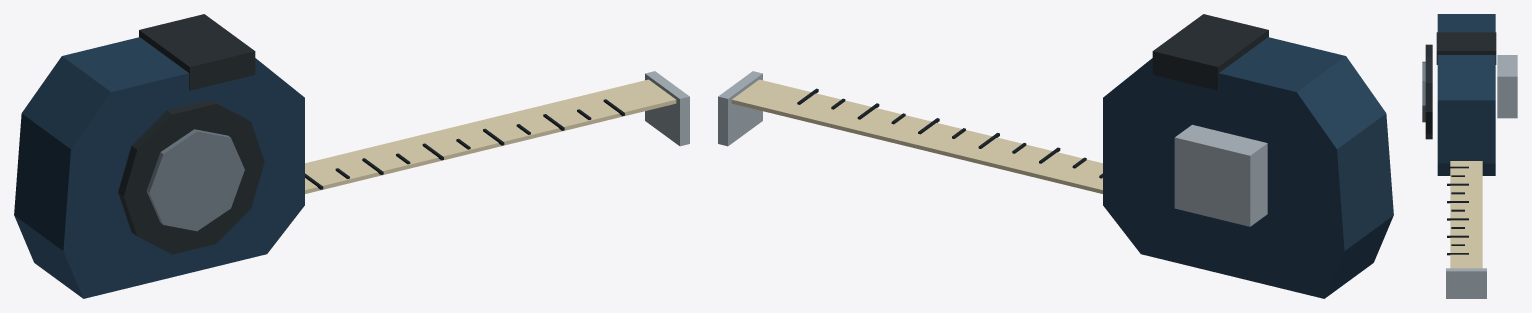
File: b06_retractable_tape_measure.glb
3 renders of one model, left to right at view 1: azimuth 30°, elevation 25°; view 2: azimuth 150°, elevation 25°; view 3: azimuth 270°, elevation 25°, orthographic. The views are drawn at different scales.
Visible parts, largest first — view 1: b06_retractable_tape_measure; view 2: b06_retractable_tape_measure; view 3: b06_retractable_tape_measure.
Part boxes in pixels (x1,y1,x2,y2): b06_retractable_tape_measure: [14, 14, 689, 298]; b06_retractable_tape_measure: [718, 14, 1393, 298]; b06_retractable_tape_measure: [1422, 14, 1517, 298].
Size of the model in its own units: 0.252 by 0.0785 by 0.056.
